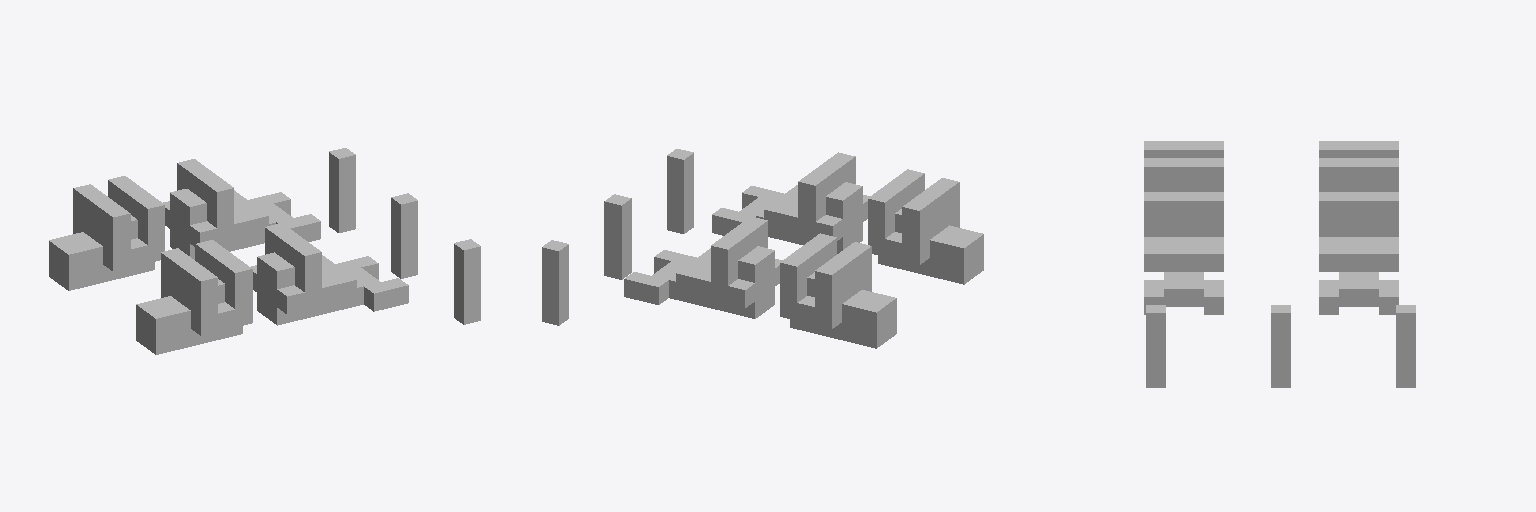
File: salmon 2.obj
The picture shows the model from 3 angles: view 1: azimuth 30°, elevation 25°; view 2: azimuth 150°, elevation 25°; view 3: azimuth 270°, elevation 25°; orthographic projection.
Size of the model in its own units: 1.46 by 0.48 by 1.09.